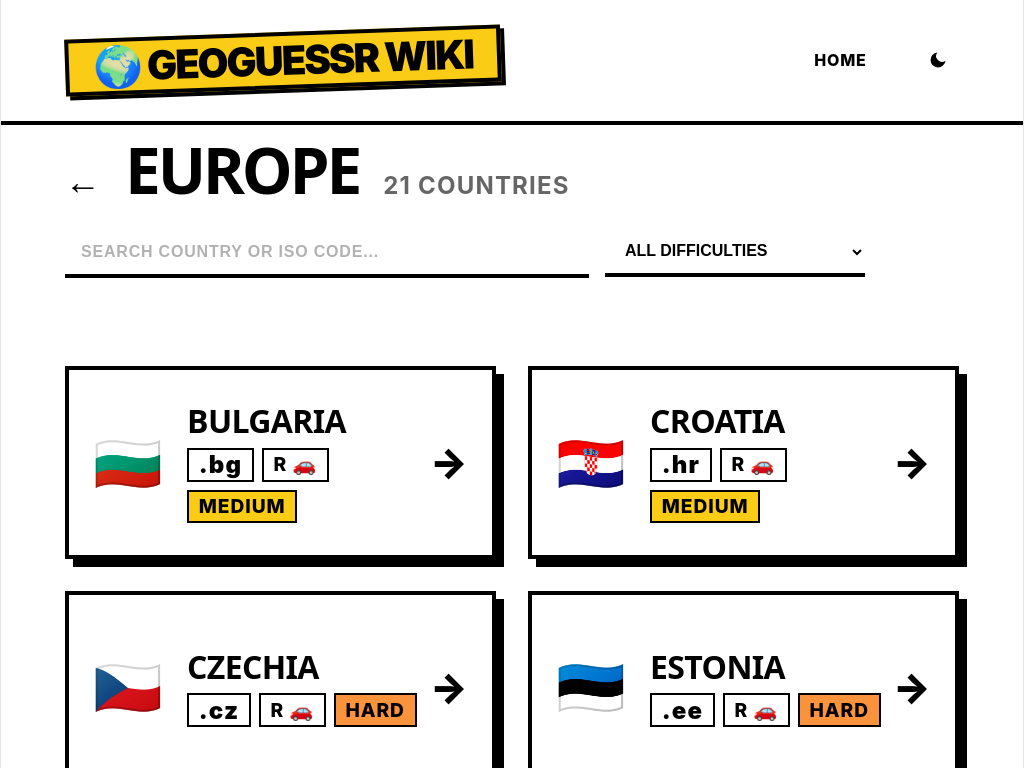
Test case: Continent page › filters by difficulty and updates the count
This screenshot has width=1024, height=768.
Select "Hard" in the dropdown: (735, 253) [605,228,865,277]
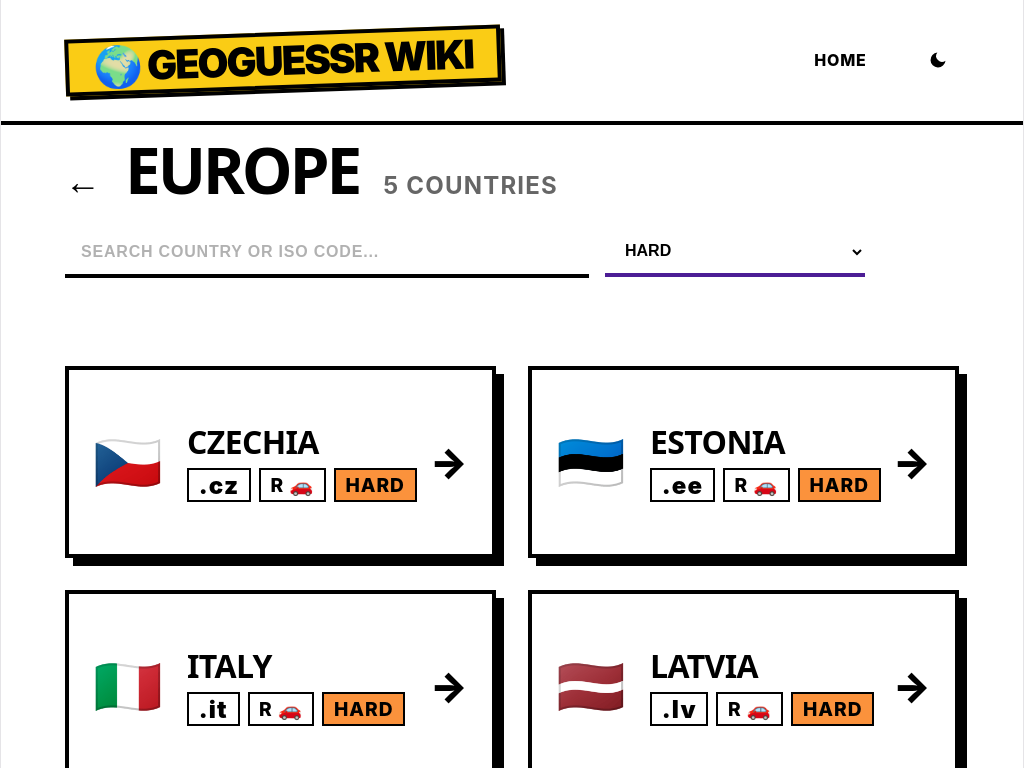
Expected: the text "5 countries" is shown, [383,174,558,197]
